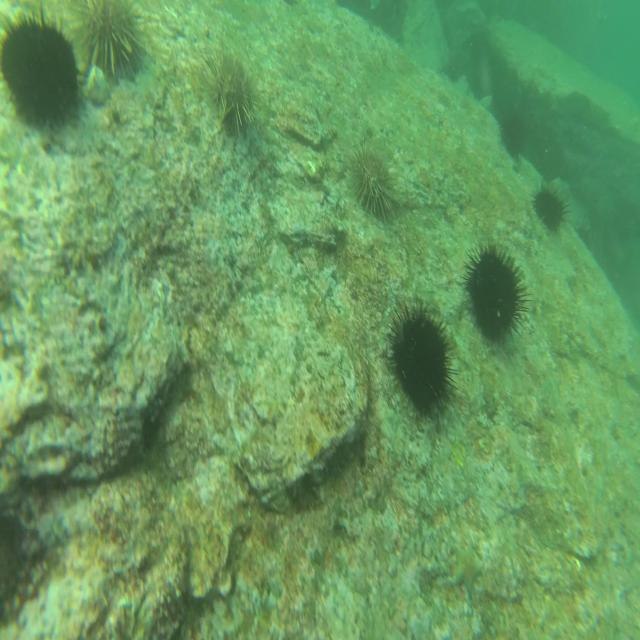echinus: (4, 17, 80, 126), (390, 299, 456, 414), (462, 236, 522, 340), (200, 41, 260, 131), (82, 0, 144, 78), (344, 140, 401, 223), (535, 182, 572, 233), (502, 108, 525, 158)
